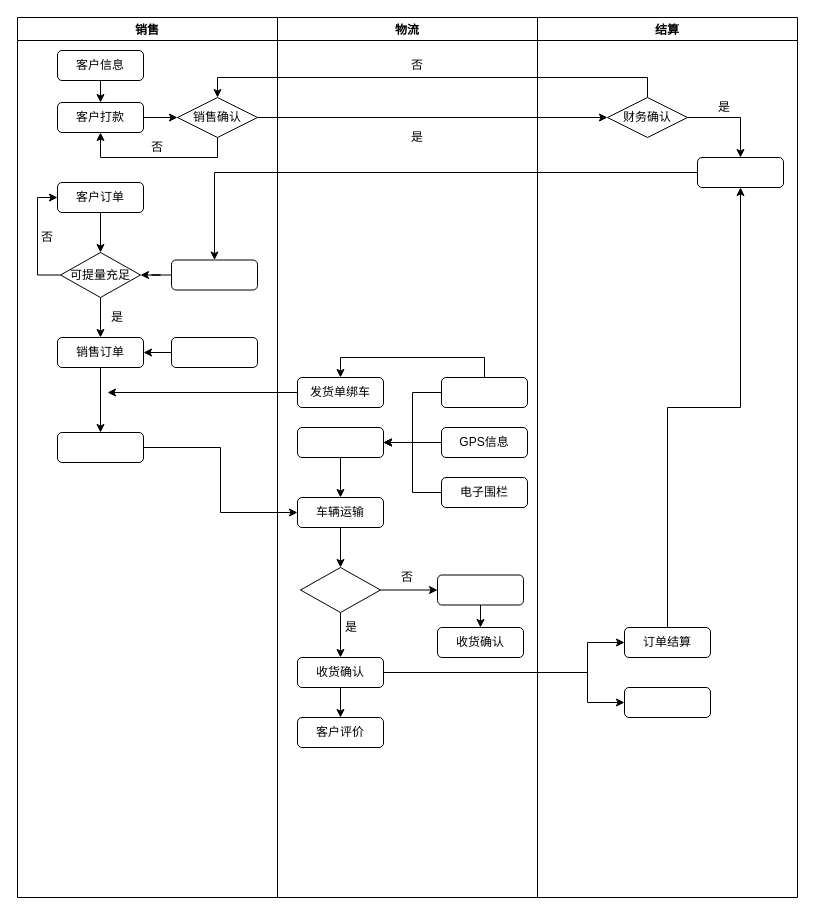
Image size: 815x915. Some labels were removed from this diagram. Here are the shapes that lost their labels. From the top down, the centre of each, then its label:
At [740,172]: "客户余额".
At [214,274]: "客户可提量".
At [214,352]: "销售合同".
At [484,392]: "车辆信息".
At [100,447]: "发货单".
At [340,442]: "车辆调度".
At [340,589]: "客户确认收货".
At [480,589]: "倒运".
At [667,702]: "运费结算".
